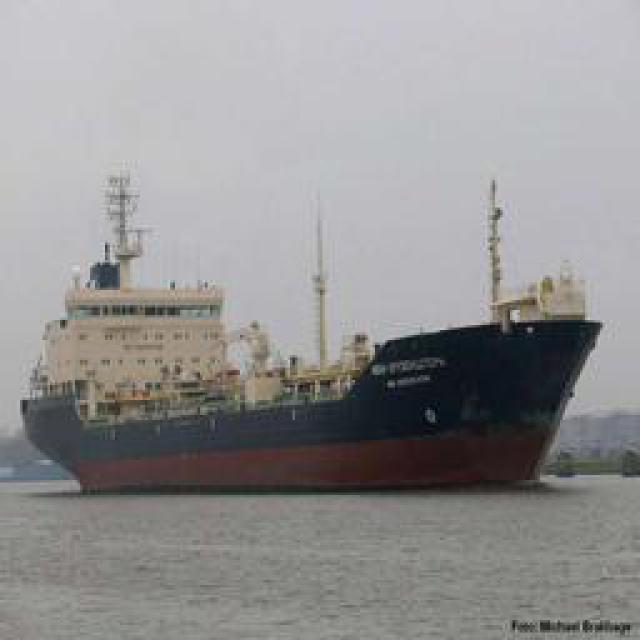Ship: (19, 183, 619, 498)
